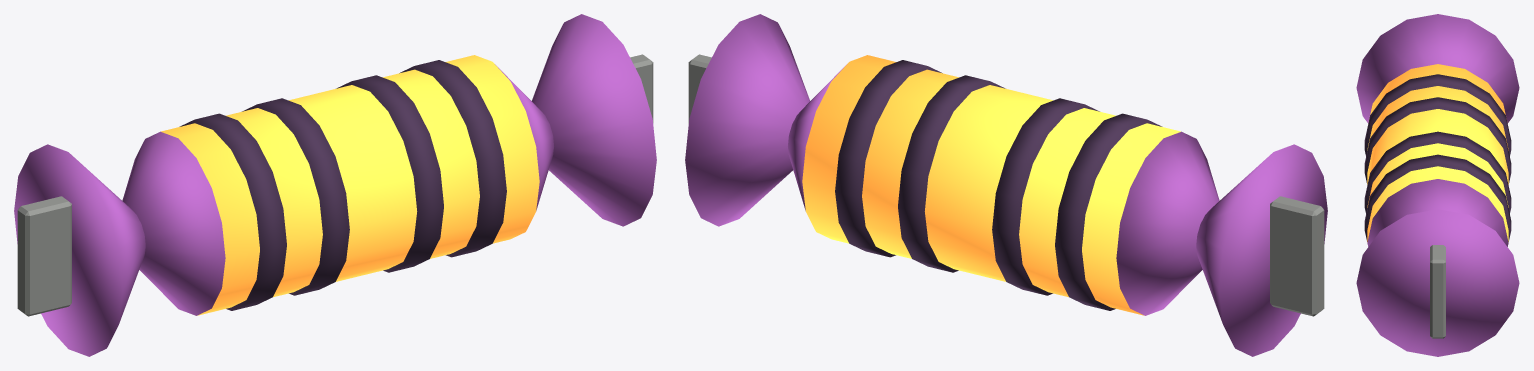
The model's file is candy_fuse.glb.
3 renders of one model, left to right at view 1: azimuth 30°, elevation 25°; view 2: azimuth 150°, elevation 25°; view 3: azimuth 270°, elevation 25°, orthographic. The views are drawn at different scales.
Visible parts, largest first — view 1: candy_fuse; view 2: candy_fuse; view 3: candy_fuse.
Boxes of the visible parts, left/top/right/bottom form: candy_fuse: left=14, top=14, right=656, bottom=356; candy_fuse: left=685, top=14, right=1327, bottom=356; candy_fuse: left=1356, top=14, right=1519, bottom=356.
Size of the model in its own units: 0.2 by 0.06 by 0.06.
